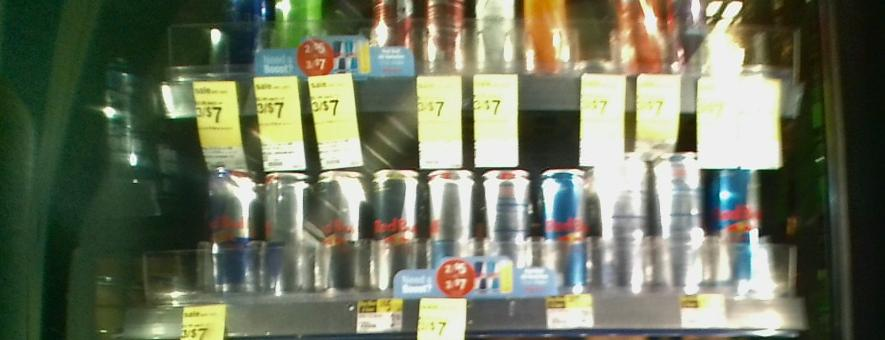bottle: (652, 145, 707, 299), (206, 161, 260, 303), (595, 136, 644, 292), (427, 162, 480, 301), (315, 162, 365, 299), (370, 159, 420, 289), (713, 158, 761, 291), (540, 155, 587, 290), (484, 165, 531, 297), (265, 160, 309, 292)
